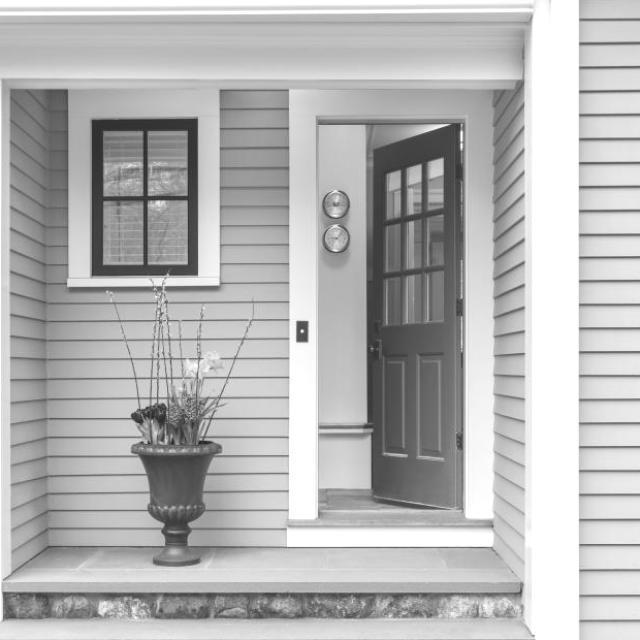door: (368, 122, 463, 510)
